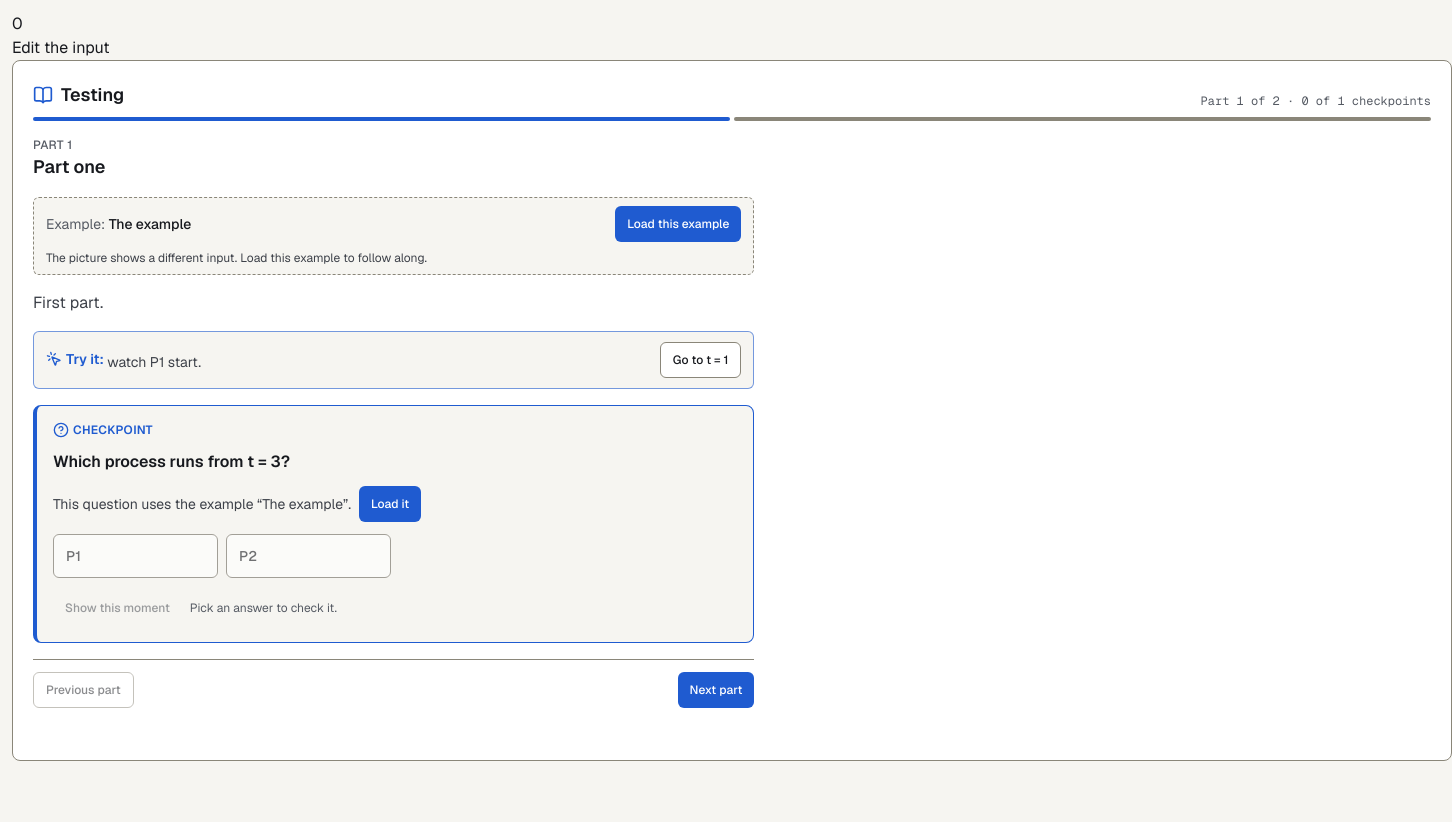
Test: Walkthrough › meets a right answer with a tick, the reason, and focus on the result
Click the button "Load this example" at [678, 224], box [615,206,741,242]
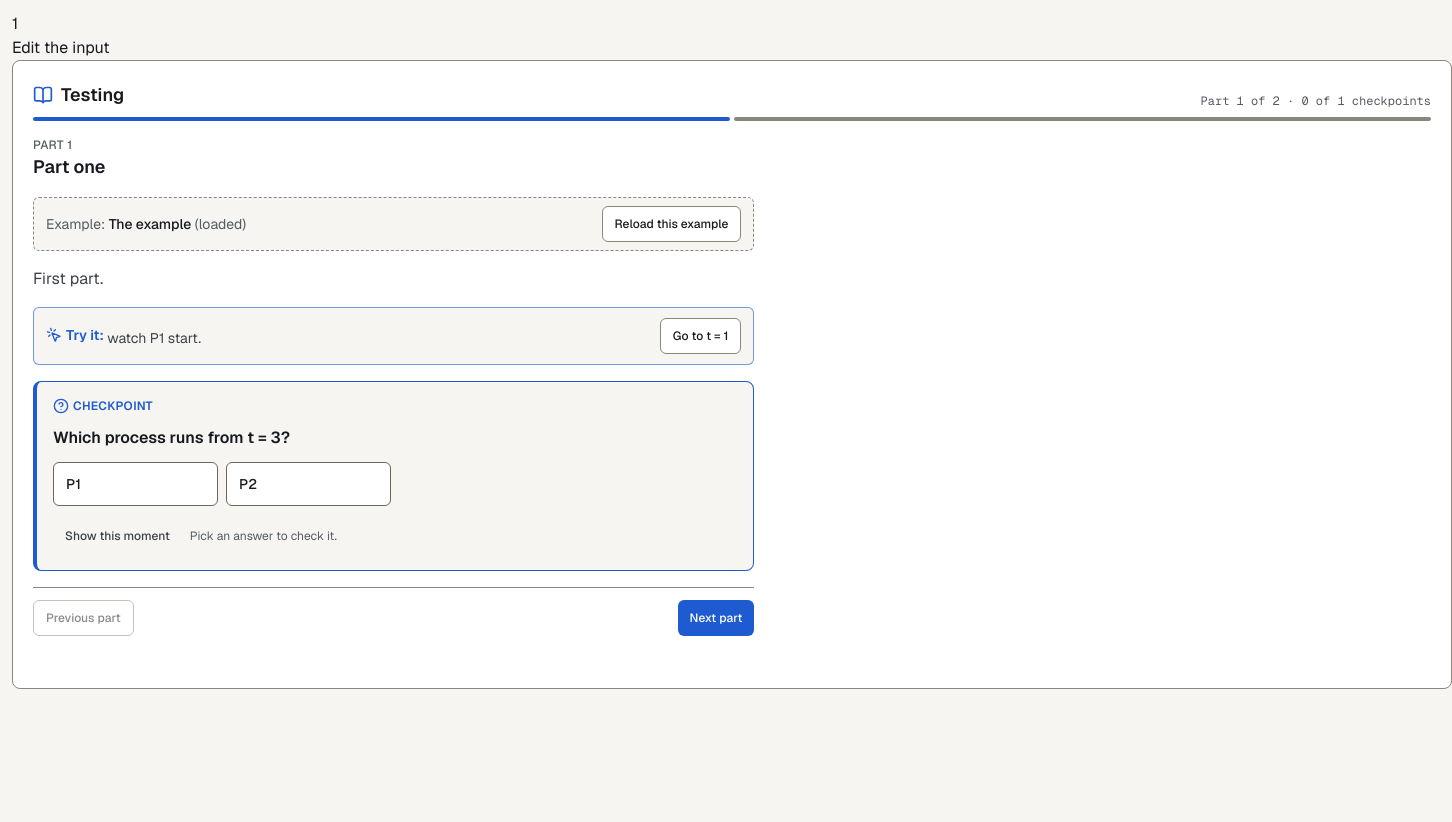
Click the button "P2" at [309, 484], box [226,462,391,506]
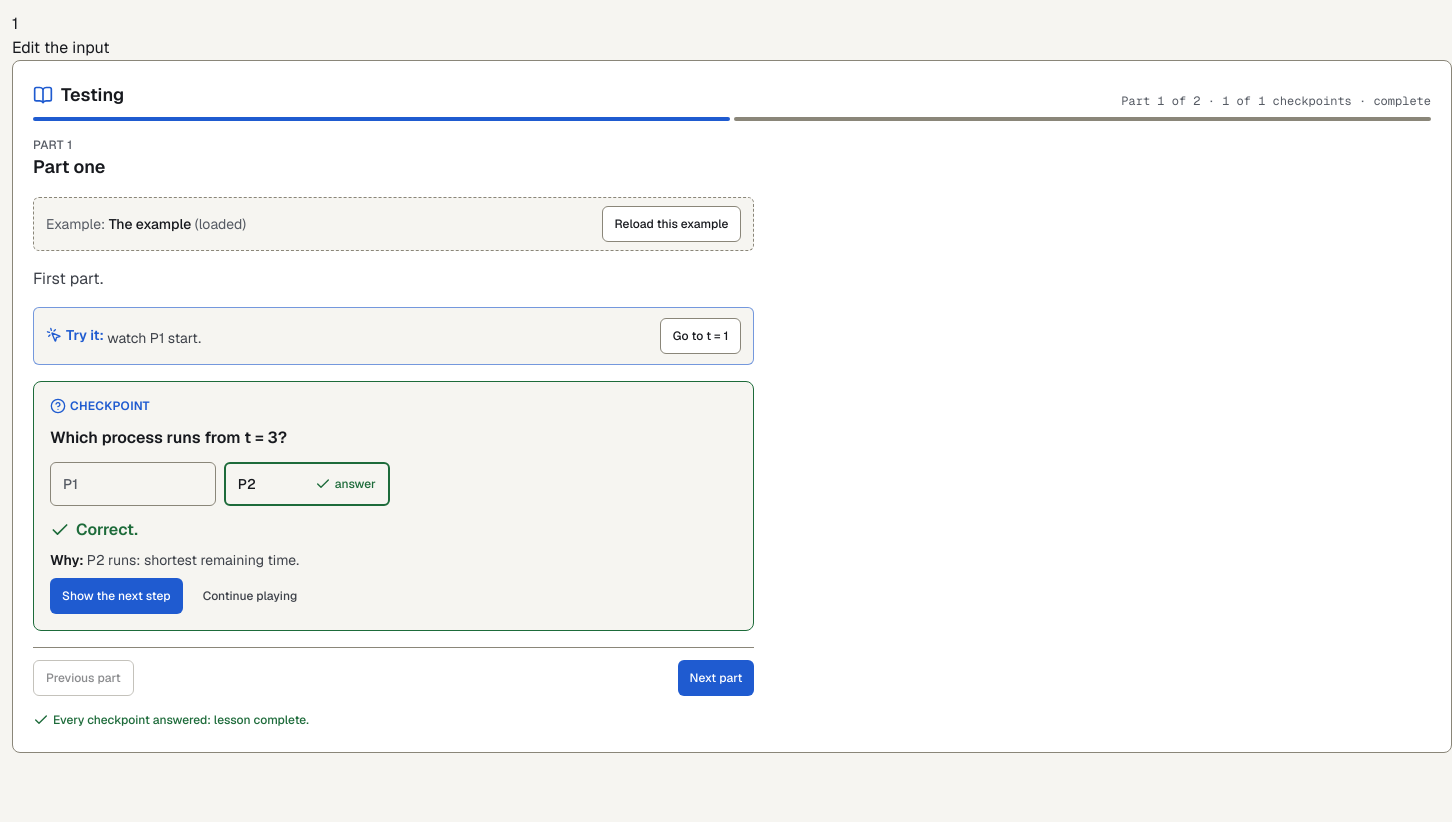
Check: the text "P2 runs: shortest remaining time." is shown, box [87,551,299,569]
